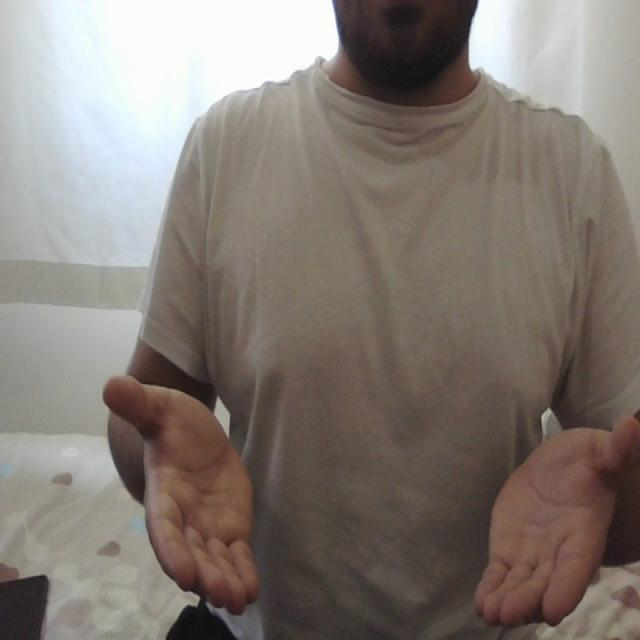Evet: (99, 366, 638, 633)
